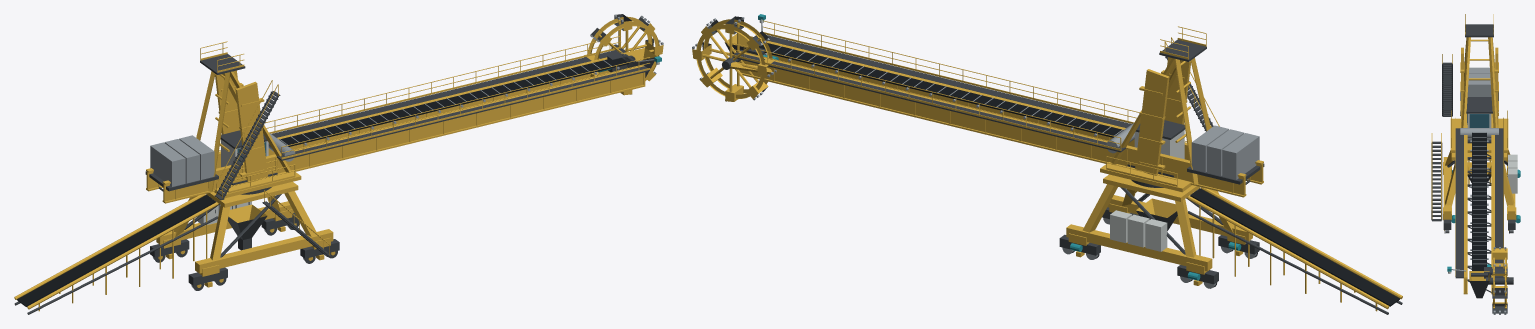
Rendered from Shimen_Bucketwheel_HMI01.glb.
3 views of the same model, side by side, from view 1: azimuth 30°, elevation 25°; view 2: azimuth 150°, elevation 25°; view 3: azimuth 270°, elevation 25° (orthographic). The views are drawn at different scales.
Visible parts, largest first — view 1: luff_boom_mesh, travel_base_mesh, slew_platform_mesh, tripper_lift_mesh, bucket_wheel_mesh; view 2: luff_boom_mesh, travel_base_mesh, slew_platform_mesh, tripper_lift_mesh, bucket_wheel_mesh; view 3: luff_boom_mesh, slew_platform_mesh, travel_base_mesh, bucket_wheel_mesh, boom_belt_mesh.
Part boxes in pixels (x1,y1,x2,y2): luff_boom_mesh: [145, 36, 661, 203]; travel_base_mesh: [150, 181, 339, 290]; slew_platform_mesh: [196, 41, 301, 200]; tripper_lift_mesh: [14, 194, 218, 314]; bucket_wheel_mesh: [584, 14, 663, 95]; luff_boom_mesh: [724, 14, 1264, 197]; travel_base_mesh: [1059, 174, 1259, 288]; slew_platform_mesh: [1100, 26, 1219, 192]; tripper_lift_mesh: [1187, 187, 1402, 314]; bucket_wheel_mesh: [692, 16, 776, 101]; luff_boom_mesh: [1447, 67, 1508, 298]; slew_platform_mesh: [1442, 14, 1508, 152]; travel_base_mesh: [1431, 133, 1520, 233]; bucket_wheel_mesh: [1486, 247, 1513, 314]; boom_belt_mesh: [1472, 132, 1486, 264].
Size of the model in its own units: 58.32 by 18.32 by 8.37.
